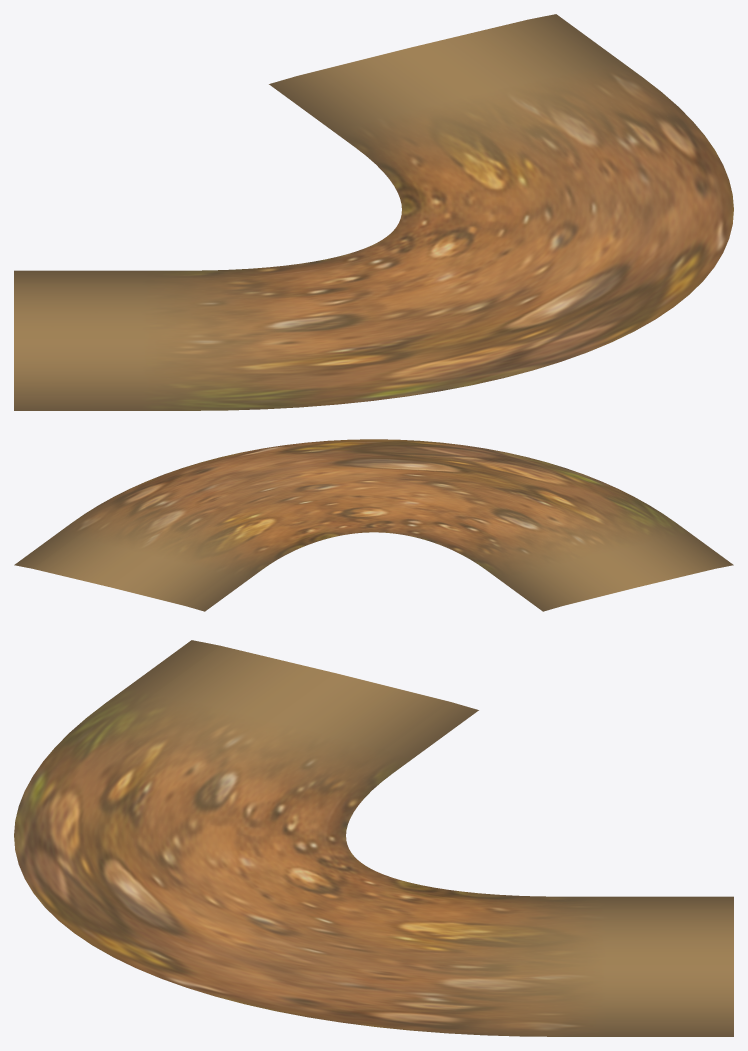
Rendered from hex_path_turn_60.glb.
The picture shows the model from 3 angles, top to bottom: view 1: azimuth 30°, elevation 25°; view 2: azimuth 150°, elevation 25°; view 3: azimuth 270°, elevation 25°; orthographic projection. The views are drawn at different scales.
Visible parts, largest first — view 1: Independent painted path ribbon; view 2: Independent painted path ribbon; view 3: Independent painted path ribbon.
Boxes of the visible parts, box(x1,y1,x2,y2) form: Independent painted path ribbon: box(14, 14, 733, 410); Independent painted path ribbon: box(14, 439, 733, 611); Independent painted path ribbon: box(14, 640, 733, 1036).
Bounding box in the file's own units: 2.6 × 0.006 × 1.99.
1 material, 1 textured.
